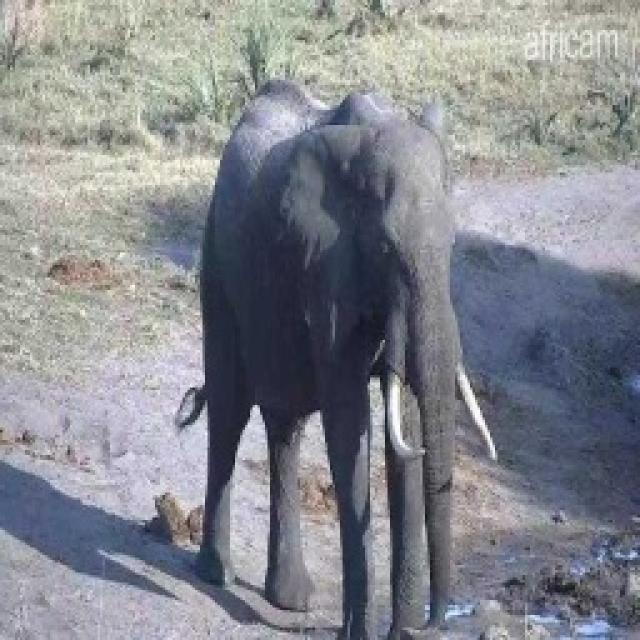not_pig: (172, 75, 498, 637)
